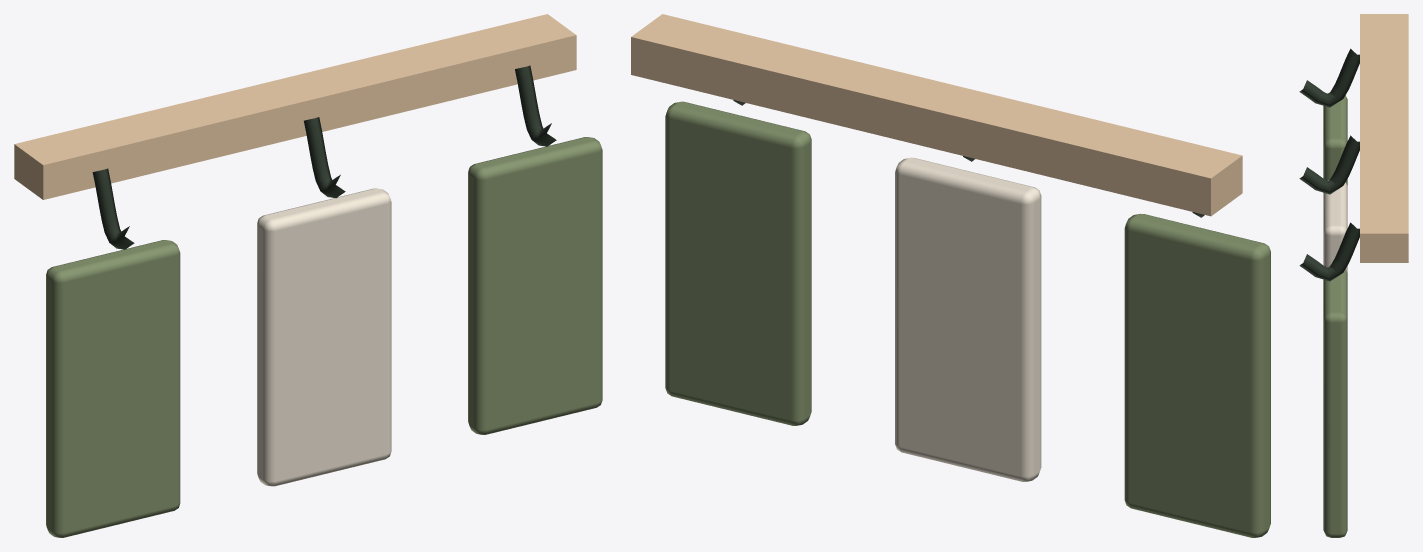
Rendered from bathroom_ref_towel_hooks.glb.
3 views of the same model, side by side, from view 1: azimuth 30°, elevation 25°; view 2: azimuth 150°, elevation 25°; view 3: azimuth 270°, elevation 25° (orthographic). The views are drawn at different scales.
Size of the model in its own units: 0.99 by 0.62 by 0.2022.
